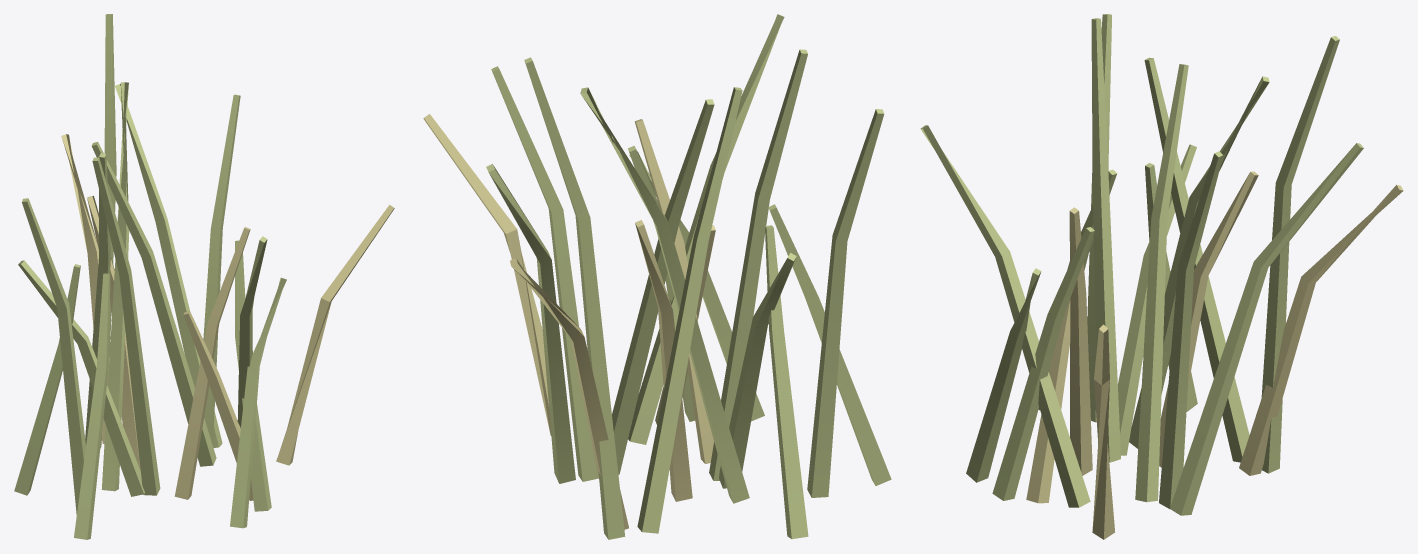
Rendered from saltglass_beach_grass.glb.
The picture shows the model from 3 angles, left to right: view 1: azimuth 30°, elevation 25°; view 2: azimuth 150°, elevation 25°; view 3: azimuth 270°, elevation 25°; orthographic projection. The views are drawn at different scales.
Parts seen in each view (by area): view 1: saltglass_beach_grass; view 2: saltglass_beach_grass; view 3: saltglass_beach_grass.
Part boxes in pixels (x1,y1,x2,y2): saltglass_beach_grass: (14,14,394,539); saltglass_beach_grass: (423,14,891,539); saltglass_beach_grass: (920,14,1403,539).
Bounding box in the file's own units: 0.5212 × 0.5308 × 0.5093.
